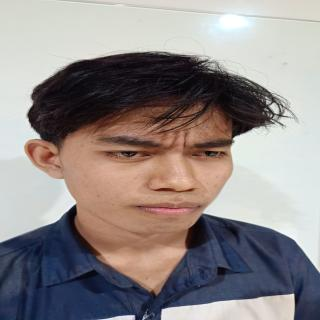Marah: (51, 105, 238, 235)
